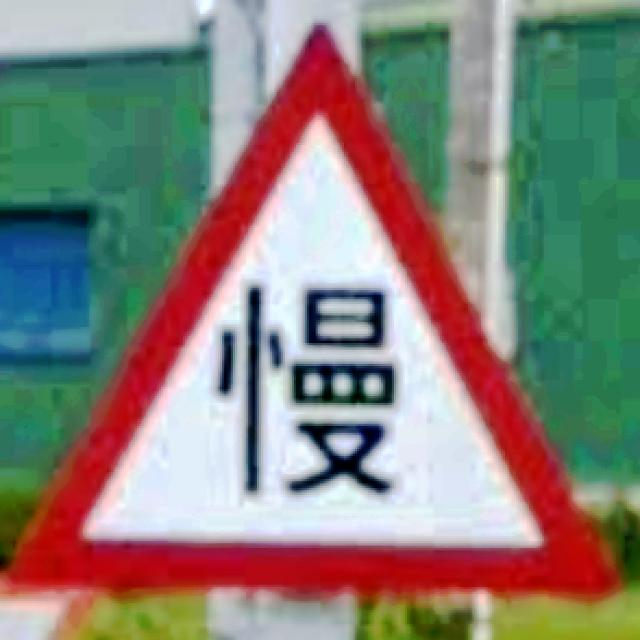slow: (0, 33, 620, 596)
